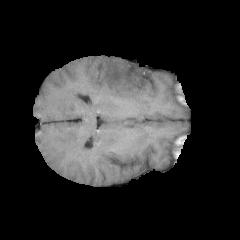glioma: (100, 60, 146, 97)
